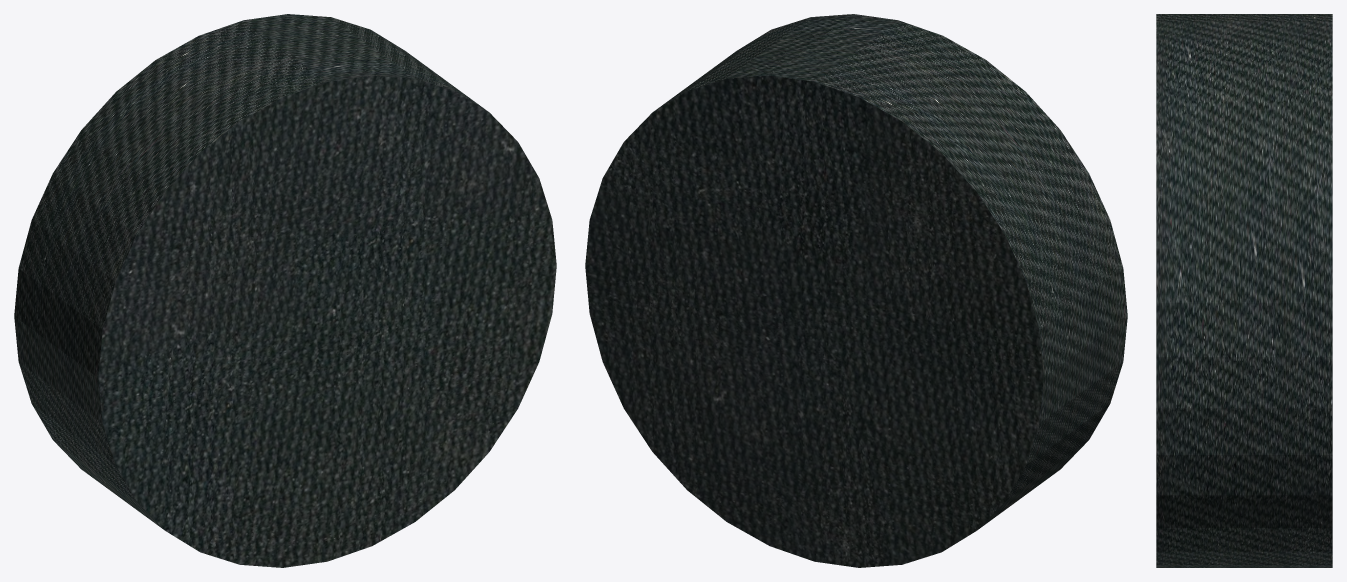
Rendered from start_elev_btn.glb.
3 views of the same model, side by side, from view 1: azimuth 30°, elevation 25°; view 2: azimuth 150°, elevation 25°; view 3: azimuth 270°, elevation 25° (orthographic). The views are drawn at different scales.
Visible parts, largest first — view 1: Cylinder; view 2: Cylinder; view 3: Cylinder.
Part boxes in pixels (bbox=[...]): Cylinder: bbox=[14, 14, 556, 567]; Cylinder: bbox=[585, 14, 1127, 567]; Cylinder: bbox=[1156, 14, 1332, 567].
Size of the model in its own units: 0.3809 by 0.3809 by 0.121.
1 material, 1 textured.
